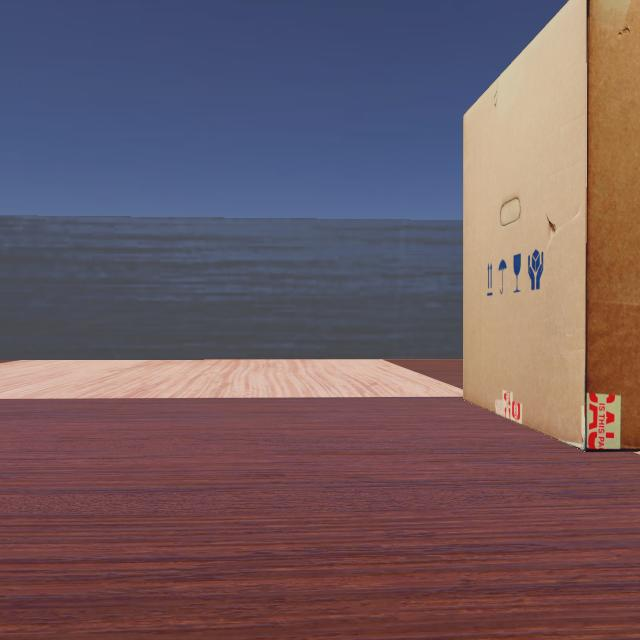cardboard-box: (461, 0, 639, 488)
